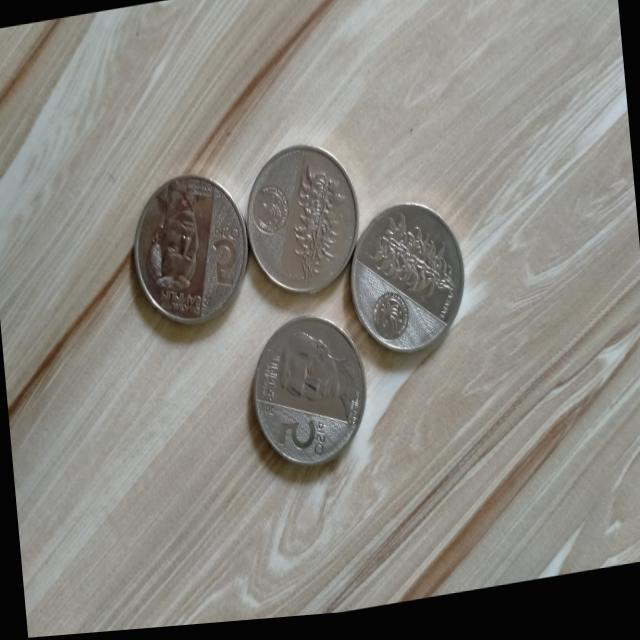5_New_Back: (358, 212, 458, 326), (288, 155, 358, 302)
5_New_Front: (264, 406, 338, 478), (198, 210, 252, 297)
